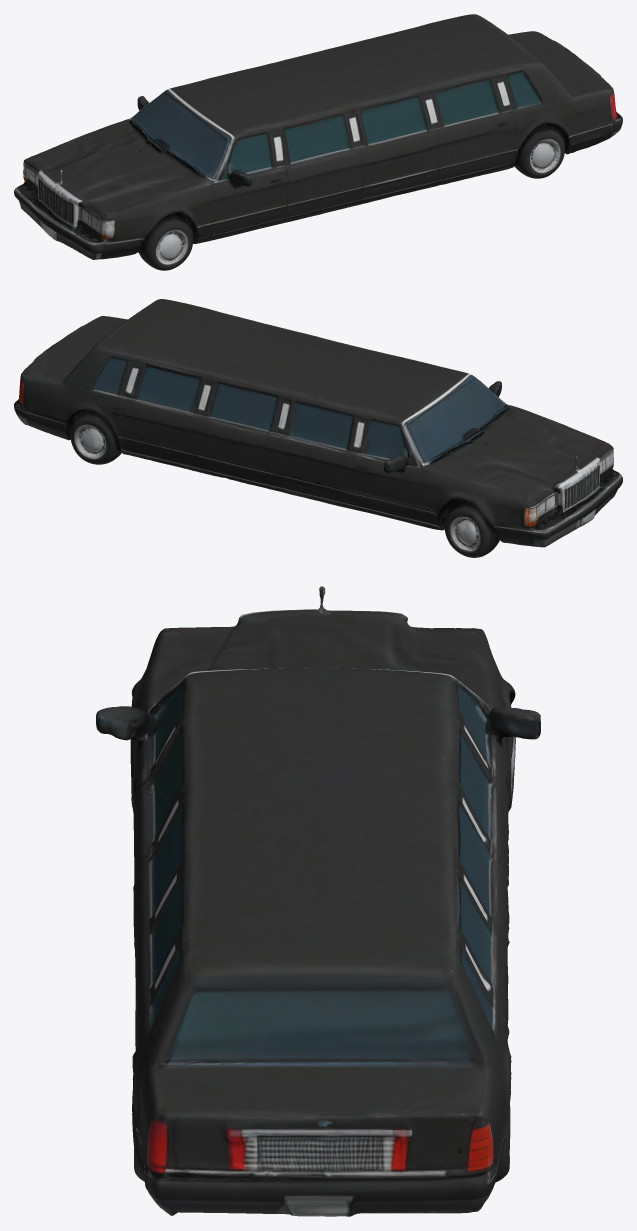
Rendered from Meshy_AI_Midnight_Stretch_Limo_0507201119_texture.fbx.
The picture shows the model from 3 angles, top to bottom: view 1: azimuth 30°, elevation 25°; view 2: azimuth 150°, elevation 25°; view 3: azimuth 270°, elevation 25°; orthographic projection. The views are drawn at different scales.
Parts seen in each view (by area): view 1: Mesh_0; view 2: Mesh_0; view 3: Mesh_0.
Part boxes in pixels (x1,y1,x2,y2): Mesh_0: (14, 14, 622, 270); Mesh_0: (14, 299, 622, 557); Mesh_0: (96, 586, 540, 1216).
Size of the model in its own units: 200 by 39.58 by 71.45.
Materials: 1 (1 with a texture image).
